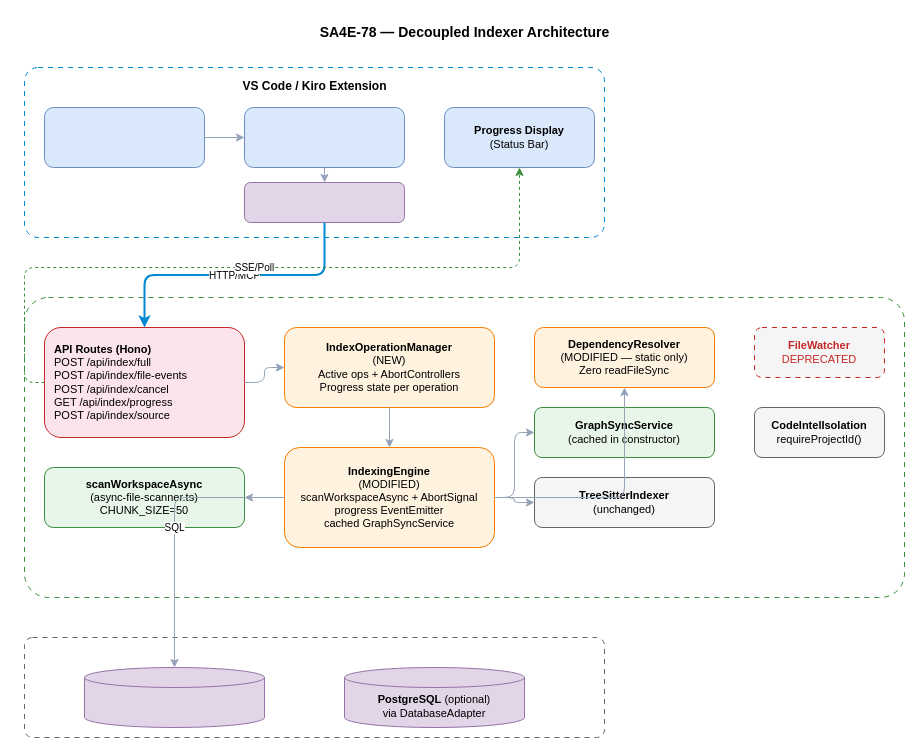
Image size: 922x755. Some labels were removed from this diagram. Here are the shapes that lost their labels. From the top down, the box of each, then its label:
(44, 106, 204, 168): FileSystemWatcher (VS Code API) detects add/change/delete
(244, 106, 404, 168): CodeIntelUploader batch push / debounce 500ms window
(244, 182, 404, 222): RemoteBackendClient (MCP / HTTP)
(24, 296, 904, 598): Backend Server (:48721)
(84, 666, 264, 728): SQLite (index.db) files, symbols, graph_nodes
(24, 636, 604, 738): Database Layer
